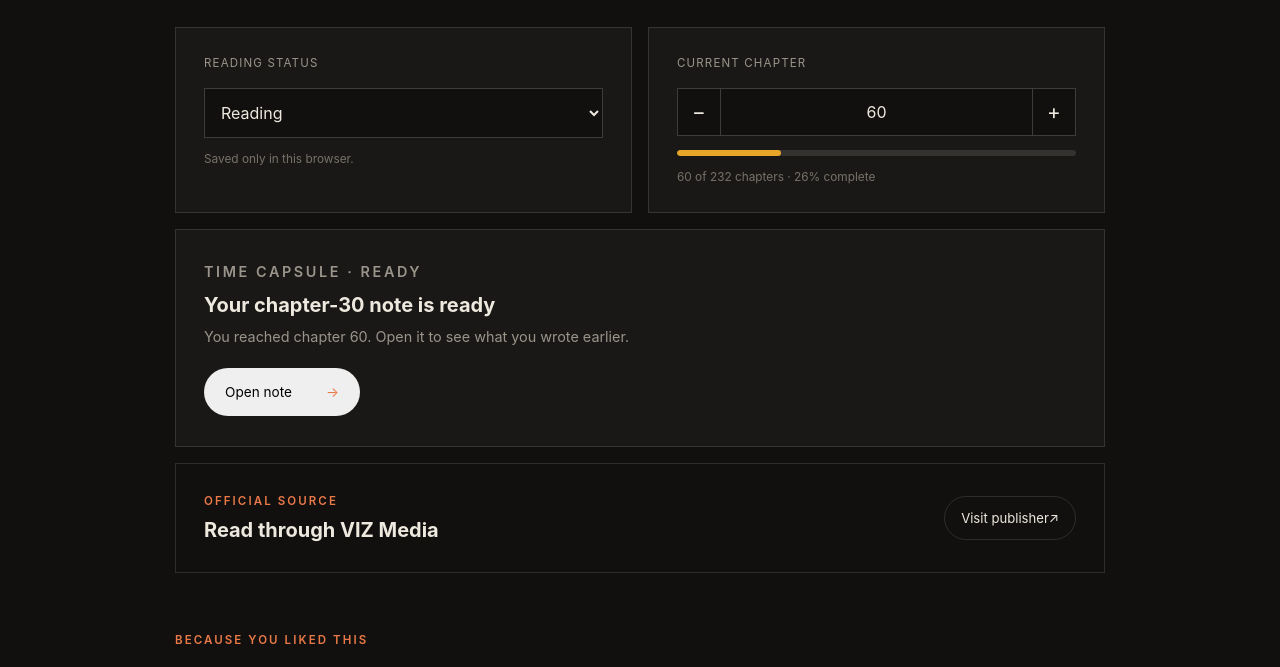
Scenario: capsule failure paths › open: a failed write surfaces an error and the note stays sealed
This screenshot has width=1280, height=667.
(page scrolled)
Click the button "Open note →". click: (282, 392)
box: [204,368,360,416]
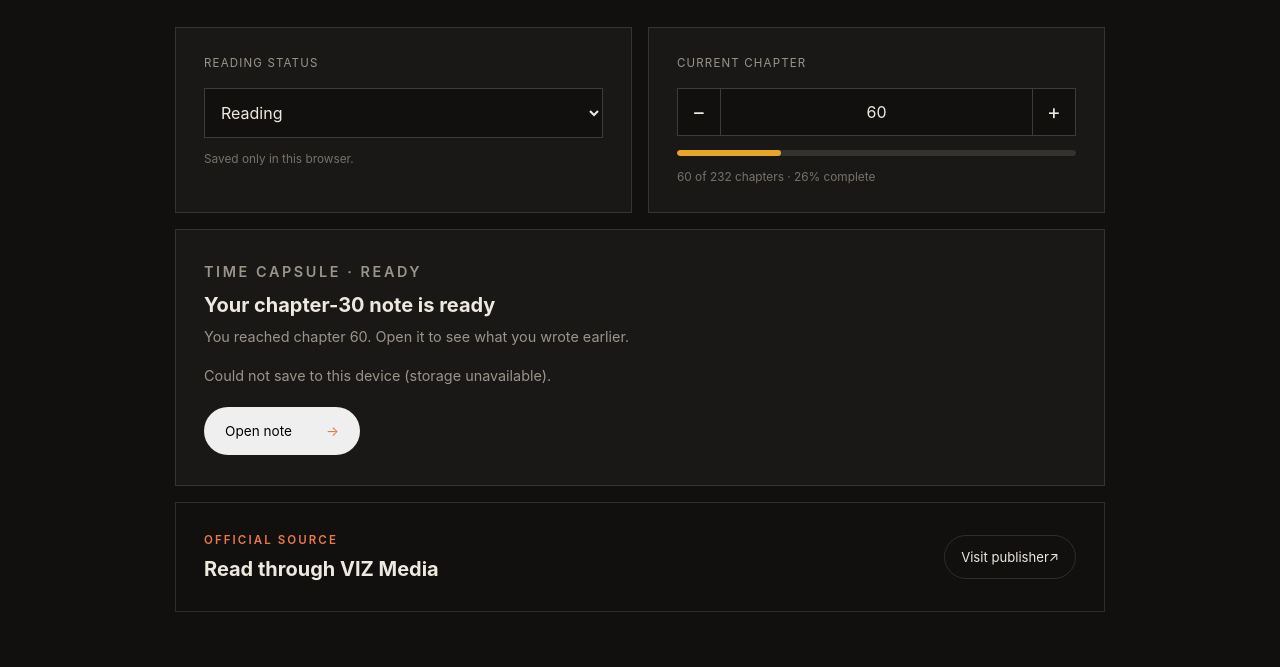
Result: the message shows "Could not save to this device" at [204,367,551,384]
